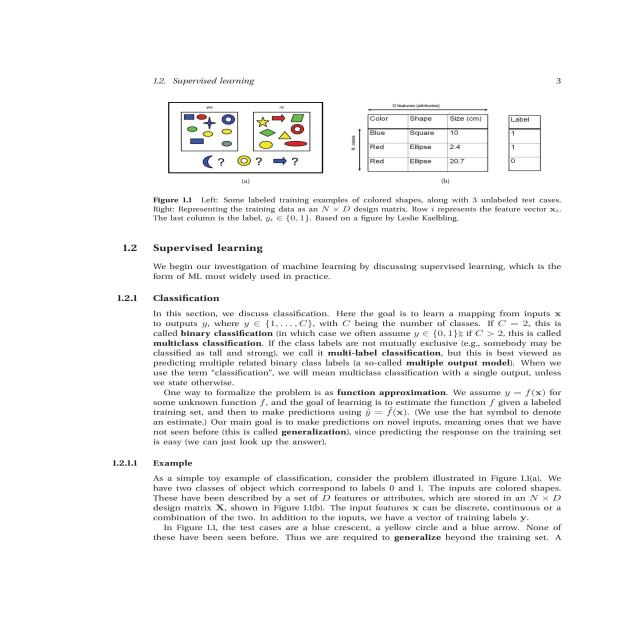diagram: (145, 91, 580, 231)
